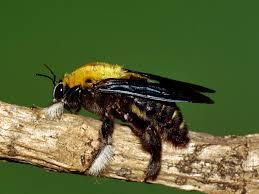Xylocopa: (34, 55, 202, 168)
